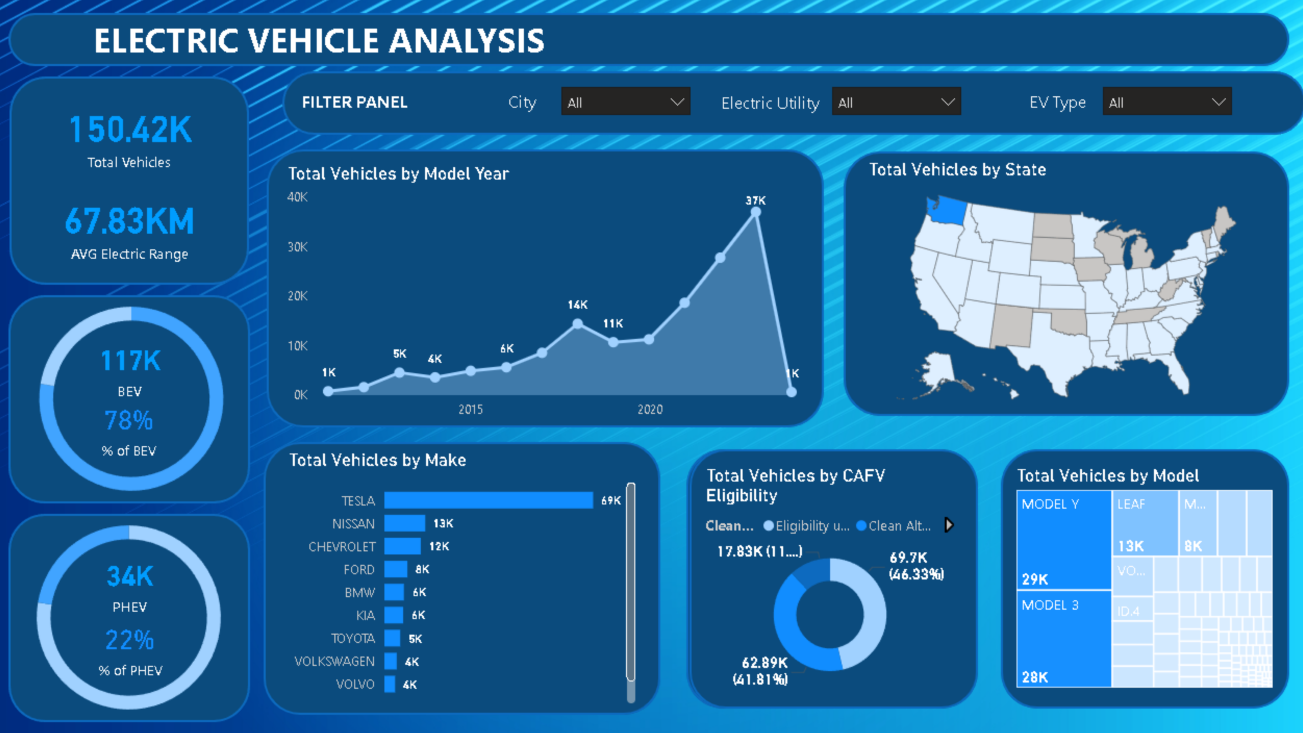

The page's visual inventory and layout, read from the dashboard file:
{"tool":"powerbi","page":{"name":"Page 1","canvas":[1280,720],"ordinal":0},"visuals":[{"type":"shape","box":[24.3,18.6,1230,51.4],"z":0},{"type":"textbox","box":[100,15.7,452.9,57.1],"z":1000},{"type":"shape","box":[24.5,80,230.7,200],"z":2000},{"type":"shape","box":[24.3,290,231.4,200],"z":3000},{"type":"shape","box":[24.3,500,231.4,200],"z":4000},{"type":"card","fields":{"Values":["Electric_Vehicle_Population_Data.AVG Electric Range"]},"box":[42.5,179.8,194,87.8],"z":5000},{"type":"card","fields":{"Values":["Electric_Vehicle_Population_Data.Total Vehicles"]},"box":[42.5,91.9,194.9,87.8],"z":6000},{"type":"donutChart","fields":{"Y":["Electric_Vehicle_Population_Data.Total Vehicles"],"Category":["Electric_Vehicle_Population_Data.Electric Vehicle Type"]},"box":[12.3,274.4,259.3,230.5],"z":7000},{"type":"card","fields":{"Values":["Electric_Vehicle_Population_Data.BEV"]},"box":[42.5,315.6,194.9,87.8],"z":8000},{"type":"card","fields":{"Values":["Electric_Vehicle_Population_Data.% of BEV"]},"box":[42.5,373.2,193.5,86.4],"z":9000},{"type":"card","fields":{"Values":["Electric_Vehicle_Population_Data.PHEV"]},"box":[42.5,522.8,194.9,87.8],"z":10000},{"type":"donutChart","fields":{"Y":["Electric_Vehicle_Population_Data.Total Vehicles"],"Category":["Electric_Vehicle_Population_Data.Electric Vehicle Type"]},"box":[9.6,484.4,259.3,230.5],"z":11000},{"type":"card","fields":{"Values":["Electric_Vehicle_Population_Data.% of PHEV"]},"box":[43.9,584.6,193.5,86.4],"z":12000},{"type":"shape","box":[271.7,149.6,535.2,267.6],"z":13000},{"type":"shape","box":[287.1,75.5,982.5,60.4],"z":14000},{"type":"areaChart","fields":{"Category":["Electric_Vehicle_Population_Data.Model Year"],"Y":["Electric_Vehicle_Population_Data.Total Vehicles"]},"box":[286.8,163.3,506.3,253.9],"z":15000},{"type":"shape","box":[826.1,152.3,428.1,253.9],"z":16000},{"type":"shapeMap","fields":{"Category":["Electric_Vehicle_Population_Data.State"],"Value":["Electric_Vehicle_Population_Data.Total Vehicles"]},"box":[845.3,159.2,389.7,247],"z":17000},{"type":"shape","box":[269,430.9,381.5,262.1],"z":18000},{"type":"barChart","fields":{"Y":["Electric_Vehicle_Population_Data.Total Vehicles"],"Category":["Electric_Vehicle_Population_Data.Make"]},"box":[288.2,437.7,343.1,249.7],"z":19000},{"type":"shape","box":[675.1,437.7,277.2,249.7],"z":20000},{"type":"shape","box":[977,437.7,277.2,249.7],"z":21000},{"type":"shape","box":[677.9,437.7,277.2,249.7],"z":22000},{"type":"donutChart","title":"Total Vehicles by CAFV Eligibility","fields":{"Category":["Electric_Vehicle_Population_Data.Clean Alternative Fuel Vehicle (CAFV) Eligibility"],"Y":["CountNonNull(Electric_Vehicle_Population_Data.Clean Alternative Fuel Vehicle (CAFV) Eligibility)"]},"box":[688.9,452.8,248.4,220.9],"z":23000},{"type":"treemap","fields":{"Group":["Electric_Vehicle_Population_Data.Model"],"Values":["Electric_Vehicle_Population_Data.Total Vehicles"]},"box":[986.6,452.8,256.6,219.6],"z":24000},{"type":"textbox","box":[301.3,88,158.7,36],"z":25000},{"type":"slicer","fields":{"Values":["Electric_Vehicle_Population_Data.City"]},"box":[544.8,79.6,144.1,63.1],"z":26000},{"type":"slicer","fields":{"Values":["Electric_Vehicle_Population_Data.Electric Utility"]},"box":[805.1,79.6,144.1,63.1],"z":27000},{"type":"slicer","fields":{"Values":["Electric_Vehicle_Population_Data.Electric Vehicle Type"]},"box":[1065.3,80,144,62.7],"z":28000},{"type":"textbox","box":[499.5,87.8,53.5,35.7],"z":29000},{"type":"textbox","box":[703.9,89.2,141.3,31.6],"z":30000},{"type":"textbox","box":[1000,88,104,36],"z":31000}]}

Visuals, with their boxes in screenshot pixels (x1, y1, x2, y2), scaled from the page's 1280x720 canvas onto the 1303x733 screenshot:
shape: 25,19,1277,71
textbox: 102,16,563,74
shape: 25,81,260,285
shape: 25,295,260,499
shape: 25,509,260,713
card - Electric_Vehicle_Population_Data.AVG Electric Range: 43,183,241,272
card - Electric_Vehicle_Population_Data.Total Vehicles: 43,94,242,183
donutChart - Electric_Vehicle_Population_Data.Total Vehicles x Electric_Vehicle_Population_Data.Electric Vehicle Type: 13,279,276,514
card - Electric_Vehicle_Population_Data.BEV: 43,321,242,411
card - Electric_Vehicle_Population_Data.% of BEV: 43,380,240,468
card - Electric_Vehicle_Population_Data.PHEV: 43,532,242,622
donutChart - Electric_Vehicle_Population_Data.Total Vehicles x Electric_Vehicle_Population_Data.Electric Vehicle Type: 10,493,274,728
card - Electric_Vehicle_Population_Data.% of PHEV: 45,595,242,683
shape: 277,152,821,425
shape: 292,77,1292,138
areaChart - Electric_Vehicle_Population_Data.Model Year x Electric_Vehicle_Population_Data.Total Vehicles: 292,166,807,425
shape: 841,155,1277,414
shapeMap - Electric_Vehicle_Population_Data.State x Electric_Vehicle_Population_Data.Total Vehicles: 860,162,1257,414
shape: 274,439,662,706
barChart - Electric_Vehicle_Population_Data.Total Vehicles x Electric_Vehicle_Population_Data.Make: 293,446,643,700
shape: 687,446,969,700
shape: 995,446,1277,700
shape: 690,446,972,700
"Total Vehicles by CAFV Eligibility" donutChart: 701,461,954,686
treemap - Electric_Vehicle_Population_Data.Model x Electric_Vehicle_Population_Data.Total Vehicles: 1004,461,1266,685
textbox: 307,90,468,126
slicer - Electric_Vehicle_Population_Data.City: 555,81,701,145
slicer - Electric_Vehicle_Population_Data.Electric Utility: 820,81,966,145
slicer - Electric_Vehicle_Population_Data.Electric Vehicle Type: 1084,81,1231,145
textbox: 508,89,563,126
textbox: 717,91,860,123
textbox: 1018,90,1124,126
